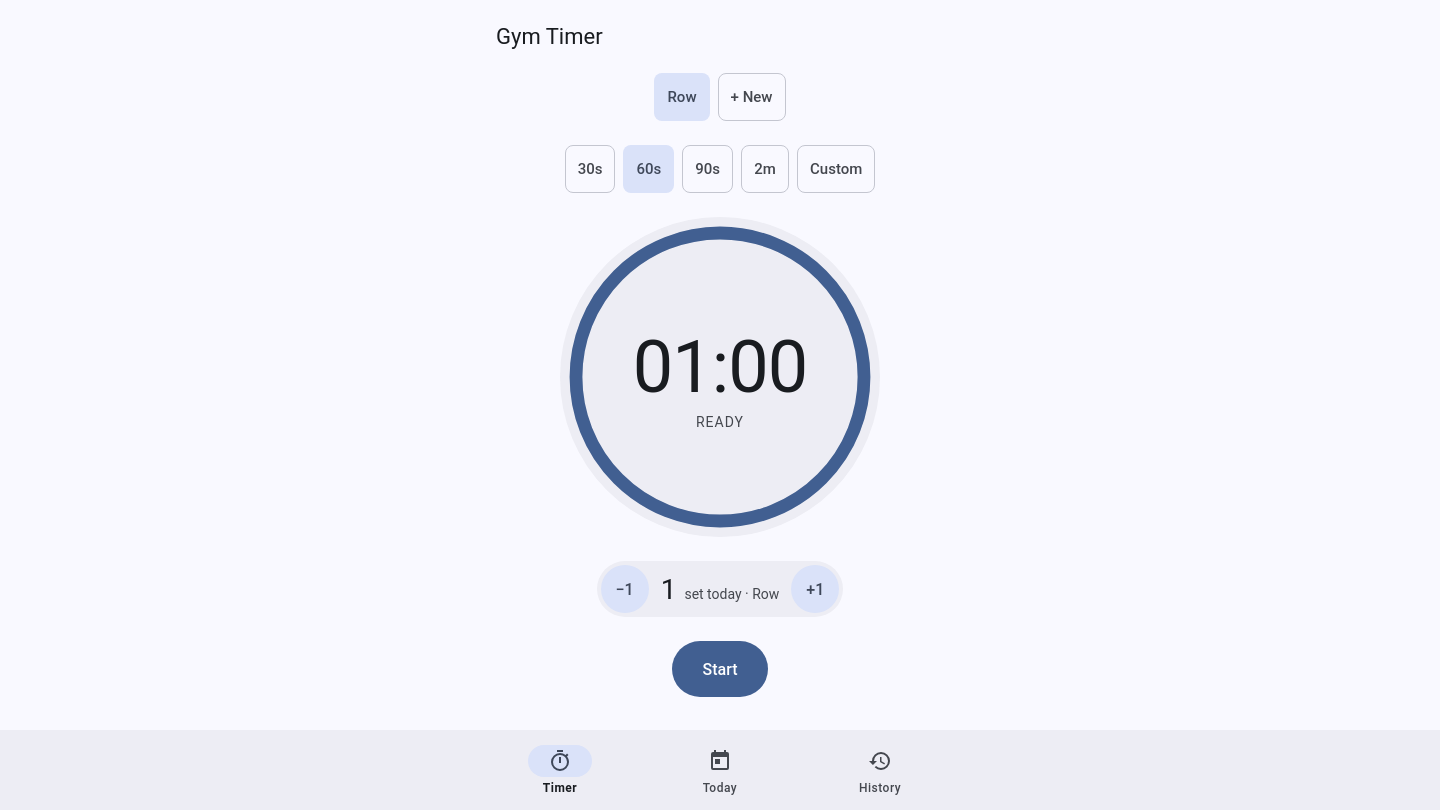
it: History › shows an empty state when there are only sets today
Click the button "History": (880, 770) [800,730,960,809]
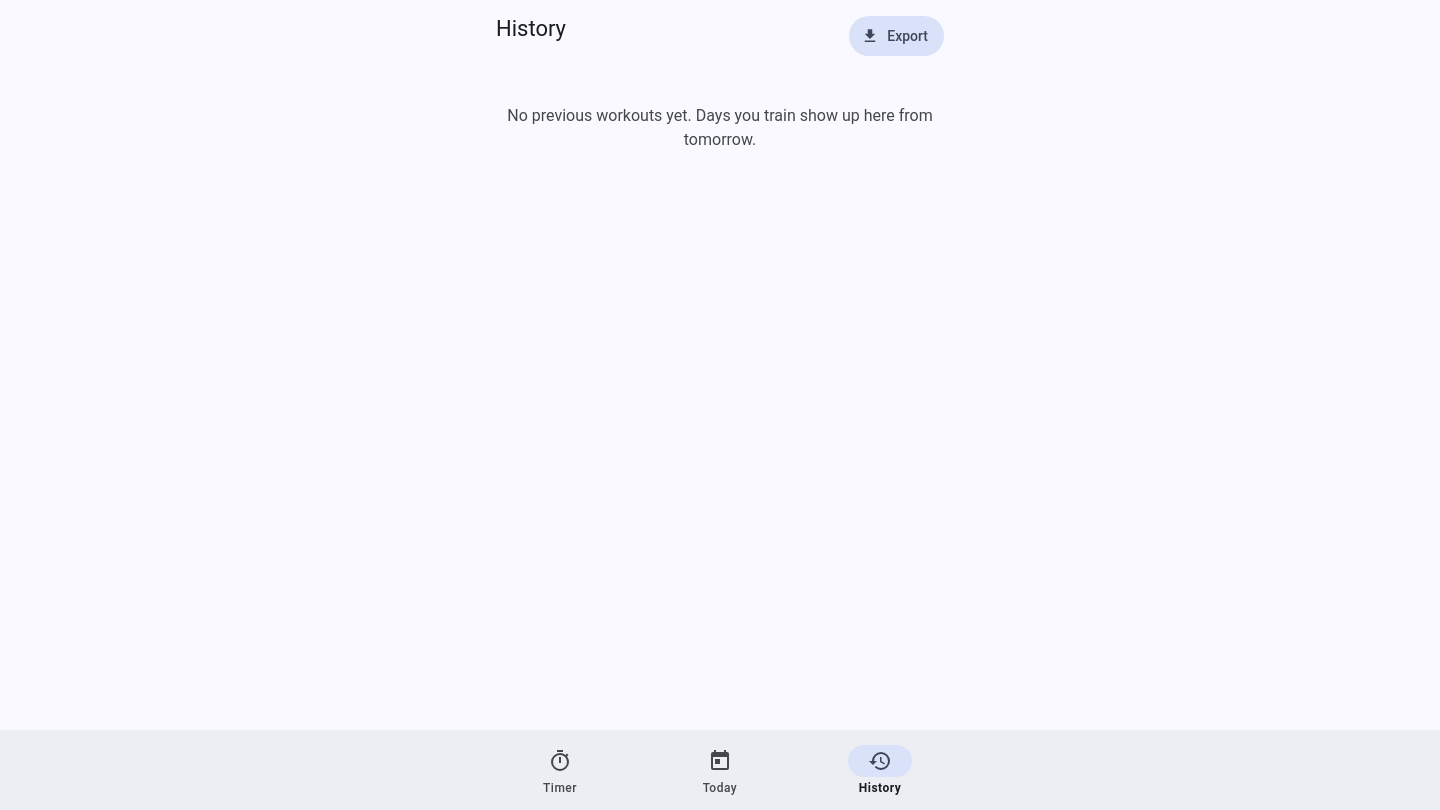
expect the text "No previous workouts yet" is shown: met, box [507,106,933,149]
